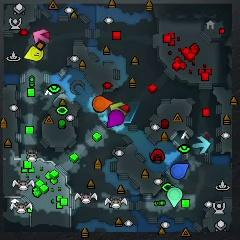p1: (171, 163, 189, 179)
p2: (167, 187, 182, 207)
p3: (107, 109, 124, 128)
p4: (23, 45, 44, 61)
p5: (93, 96, 113, 112)
x1: (33, 29, 49, 46)
x2: (109, 102, 127, 116)
x3: (192, 136, 210, 154)
